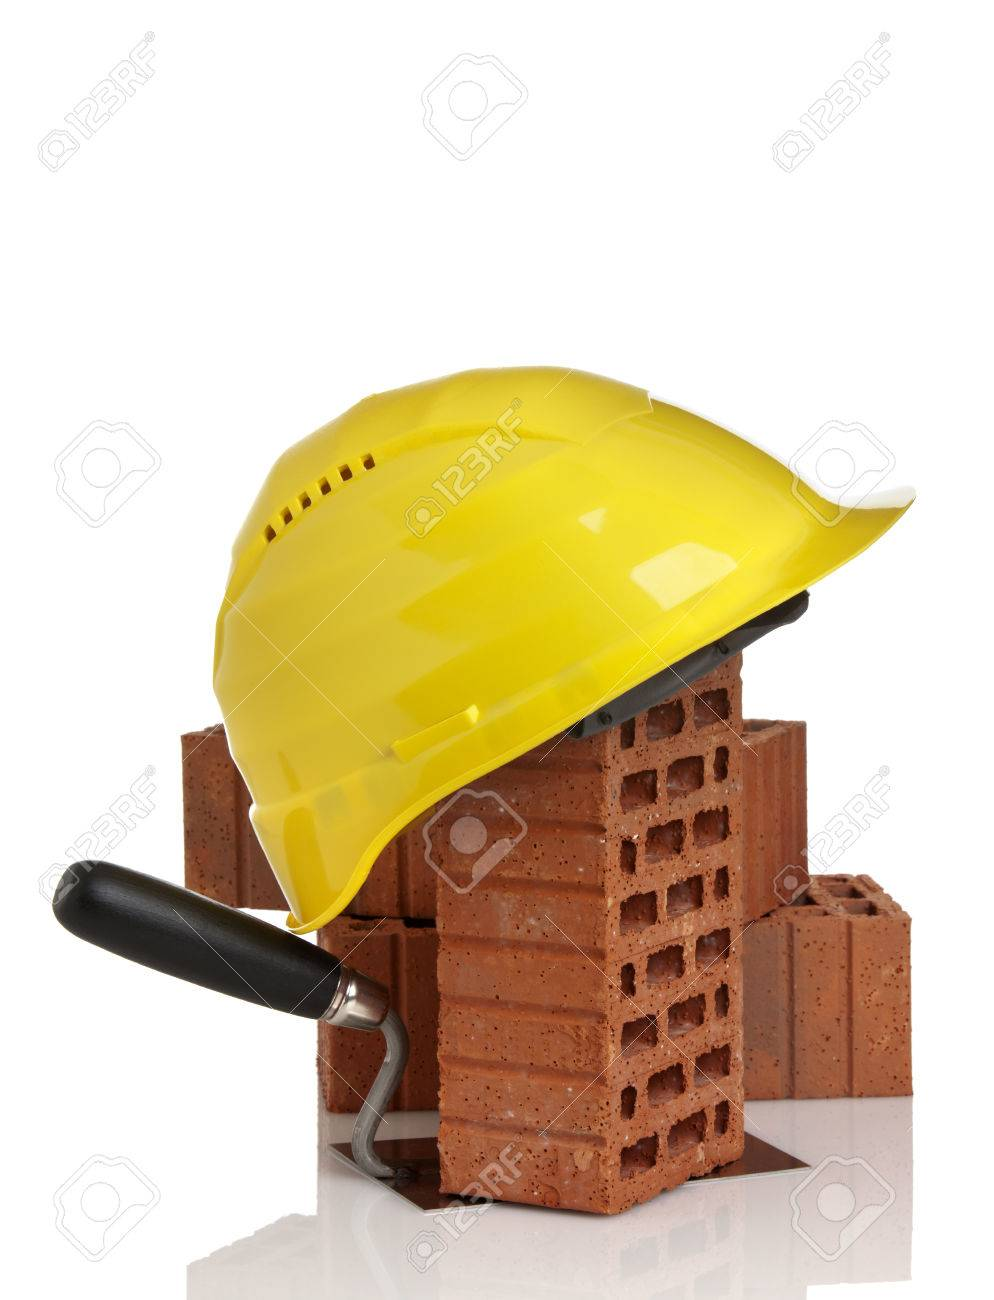casco: (207, 363, 919, 941)
